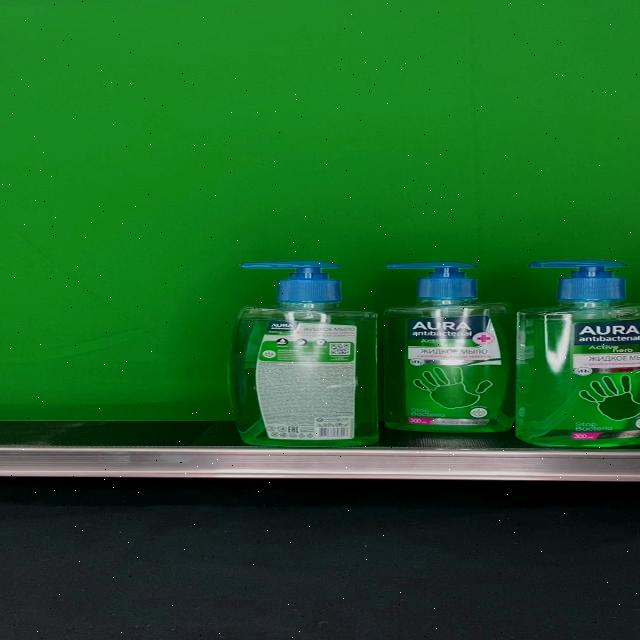Bottle: (231, 260, 380, 447), (383, 261, 517, 433), (518, 259, 640, 447)
Cap: (242, 260, 346, 302), (532, 259, 631, 301), (387, 261, 481, 301)
